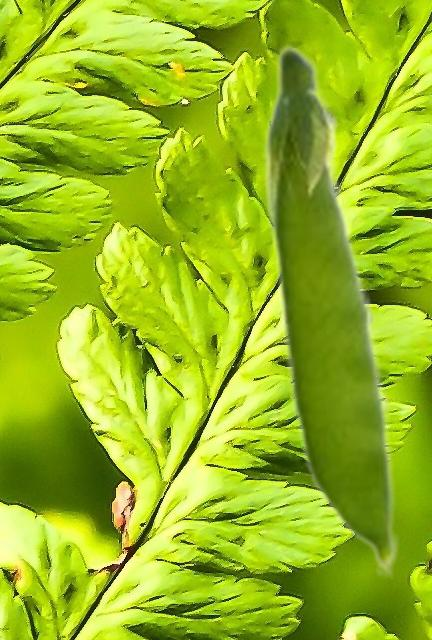pea: (262, 42, 400, 577)
